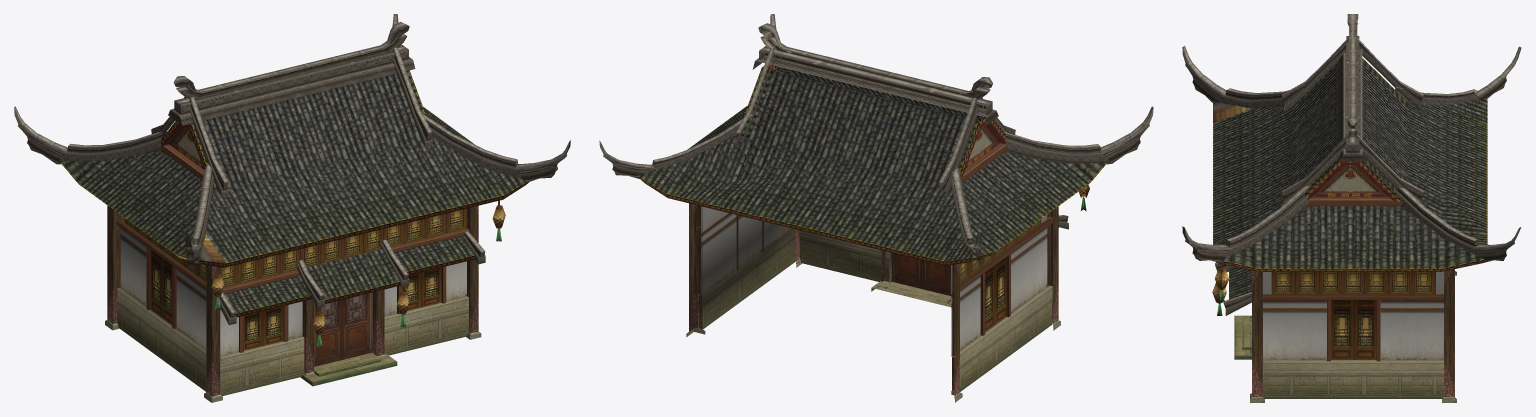
File: fb_chun_fangzi02_56_11_0615out.fbx
The picture shows the model from 3 angles, left to right: view 1: azimuth 30°, elevation 25°; view 2: azimuth 150°, elevation 25°; view 3: azimuth 270°, elevation 25°; orthographic projection. The views are drawn at different scales.
Parts seen in each view (by area): view 1: fb_chun_fangzi02; view 2: fb_chun_fangzi02; view 3: fb_chun_fangzi02.
Part boxes in pixels (x1=…): fb_chun_fangzi02: x1=14, y1=14, x2=570, y2=402; fb_chun_fangzi02: x1=599, y1=14, x2=1153, y2=402; fb_chun_fangzi02: x1=1182, y1=14, x2=1521, y2=402.
Size of the model in its own units: 11.46 by 7.99 by 9.03.
